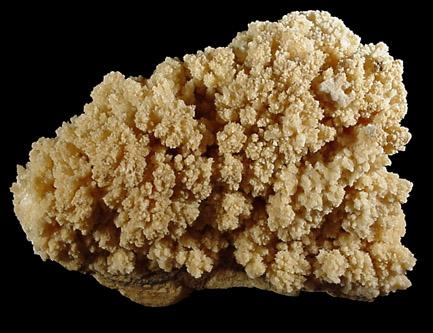calcite: (11, 12, 416, 306)
